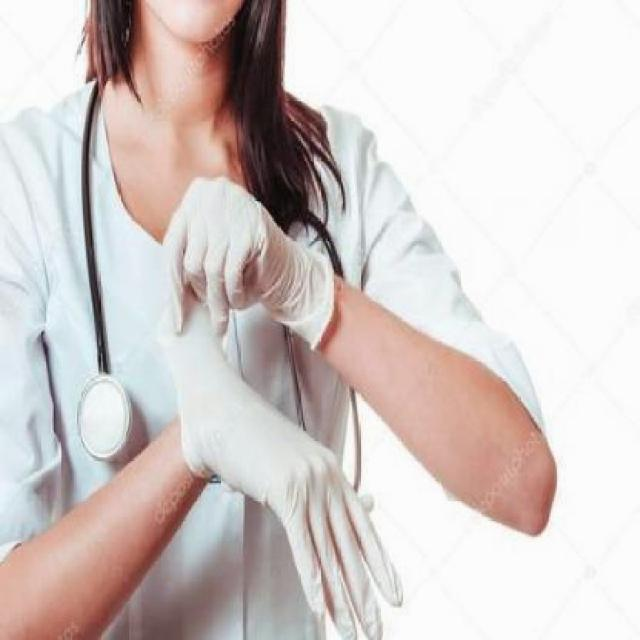hand_glove: (218, 384, 410, 638), (161, 173, 301, 329)
